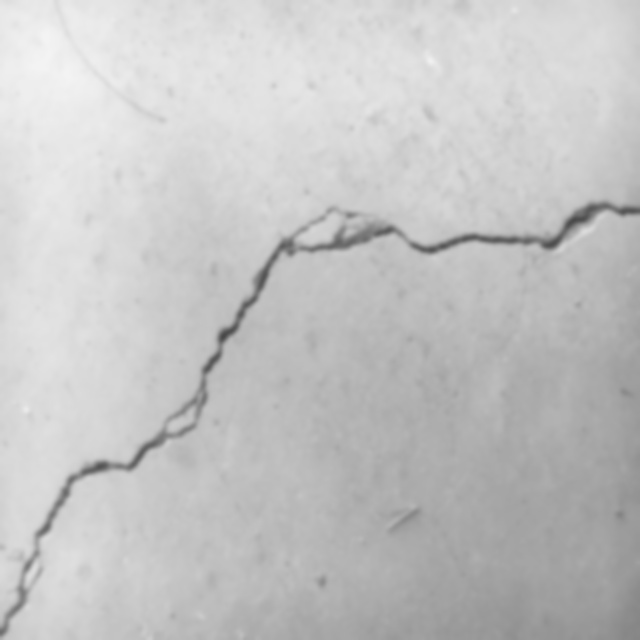SurfaceCrack: (0, 178, 638, 640)
